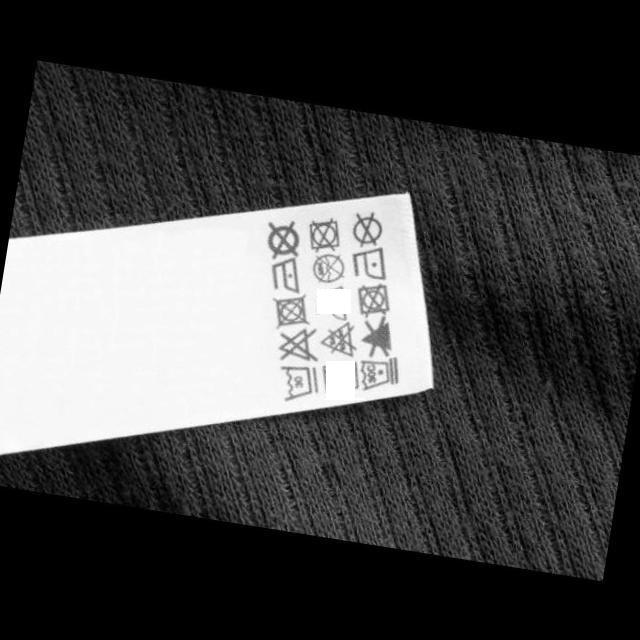30C: (272, 358, 326, 409), (355, 348, 404, 398)
DN_bleach: (274, 320, 324, 368), (356, 308, 401, 361), (316, 314, 362, 360)
DN_dry_clean: (261, 213, 304, 263), (347, 207, 388, 251), (308, 248, 351, 288)
DN_tumble_dry: (266, 287, 316, 334), (352, 276, 396, 320), (302, 213, 344, 256)
iron_low: (346, 240, 393, 284), (264, 252, 306, 294)
